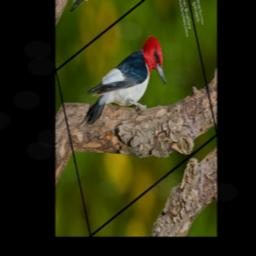Woodpecker: (73, 27, 170, 162)
